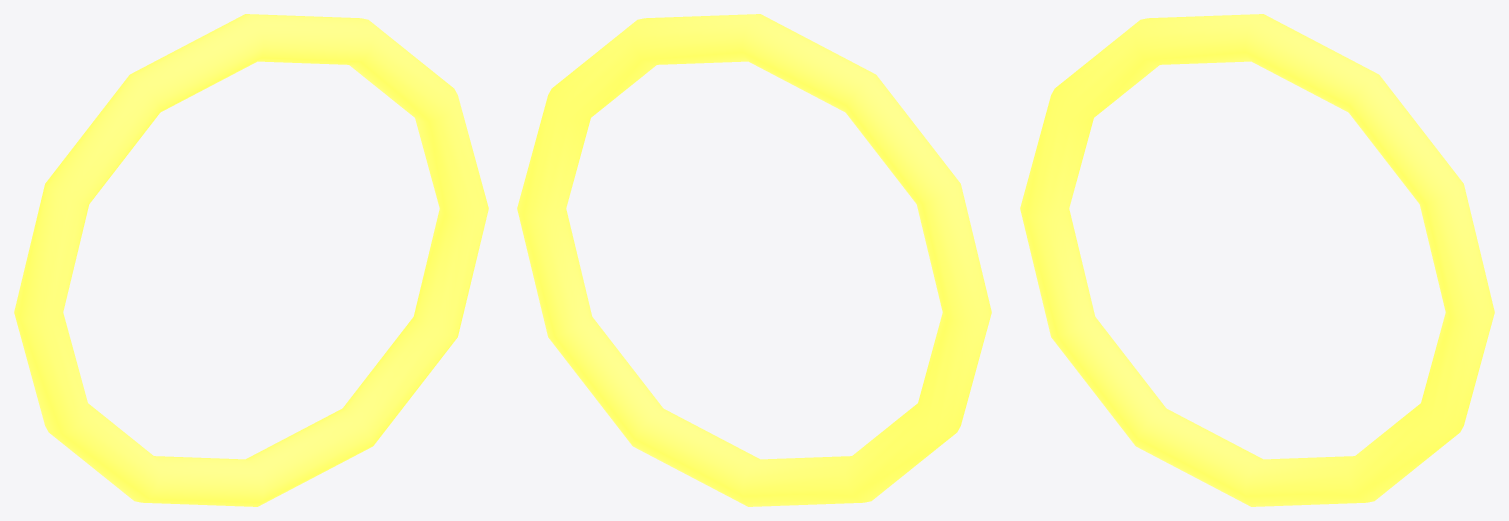
File: HaloHat.fbx
The picture shows the model from 3 angles, left to right: view 1: azimuth 30°, elevation 25°; view 2: azimuth 150°, elevation 25°; view 3: azimuth 330°, elevation 25°; orthographic projection.
Visible parts, largest first — view 1: Torus; view 2: Torus; view 3: Torus.
Part boxes in pixels (x1,y1,x2,y2): Torus: (14,14,488,506); Torus: (517,14,991,506); Torus: (1020,14,1494,506).
Bounding box in the file's own units: 63.39 × 63.39 × 5.76.
